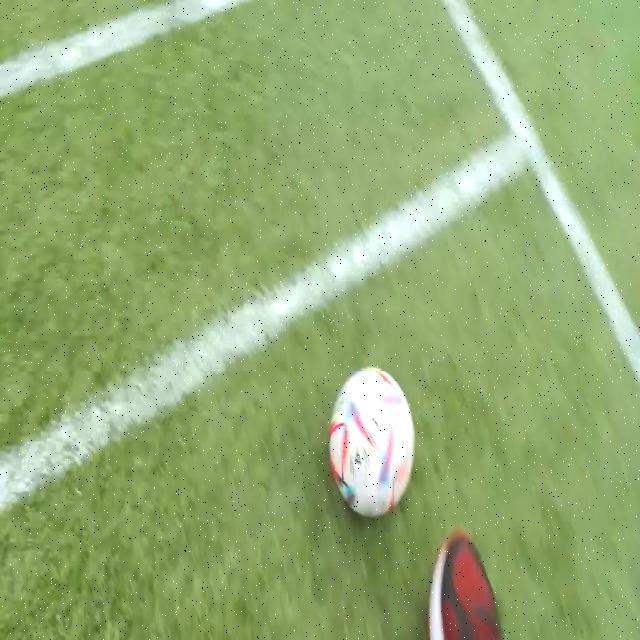ball: (330, 368, 414, 517)
